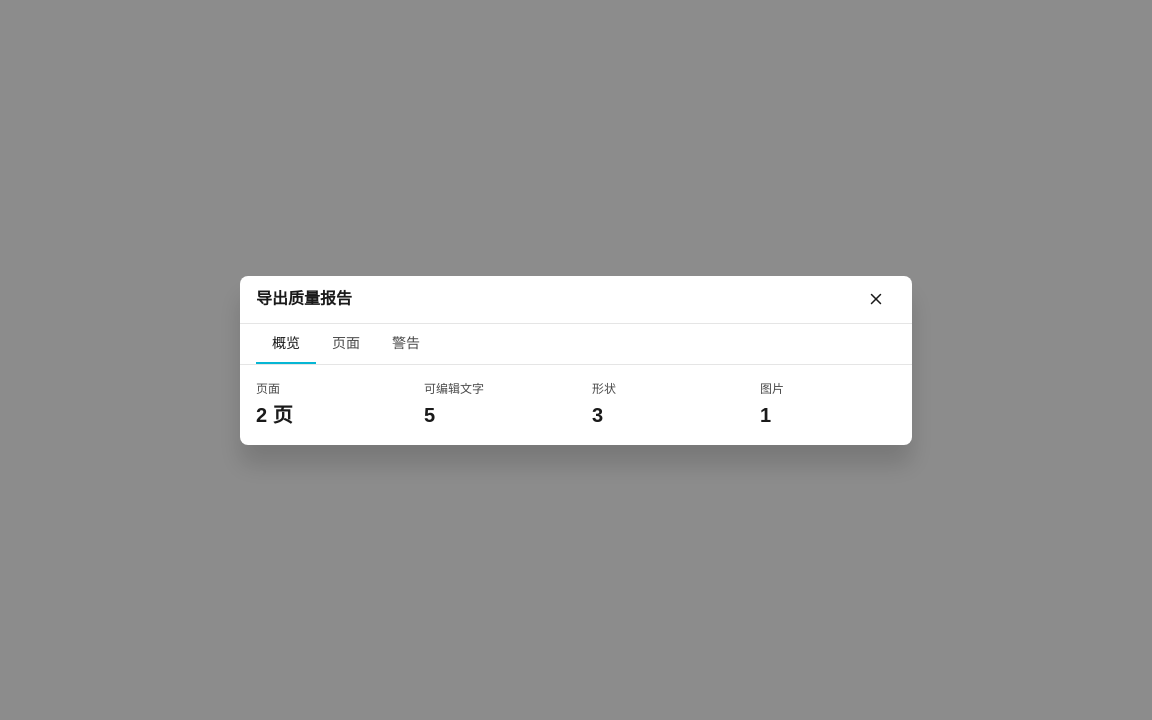
it: ExportQualityReport › shows summary, pages, and warnings without exposing raw logs by default
The width and height of the screenshot is (1152, 720).
expect the dialog "导出质量报告" shows "2 页": met, box [256, 404, 293, 426]
Click the tab "页面": [346, 344] box [316, 324, 376, 364]
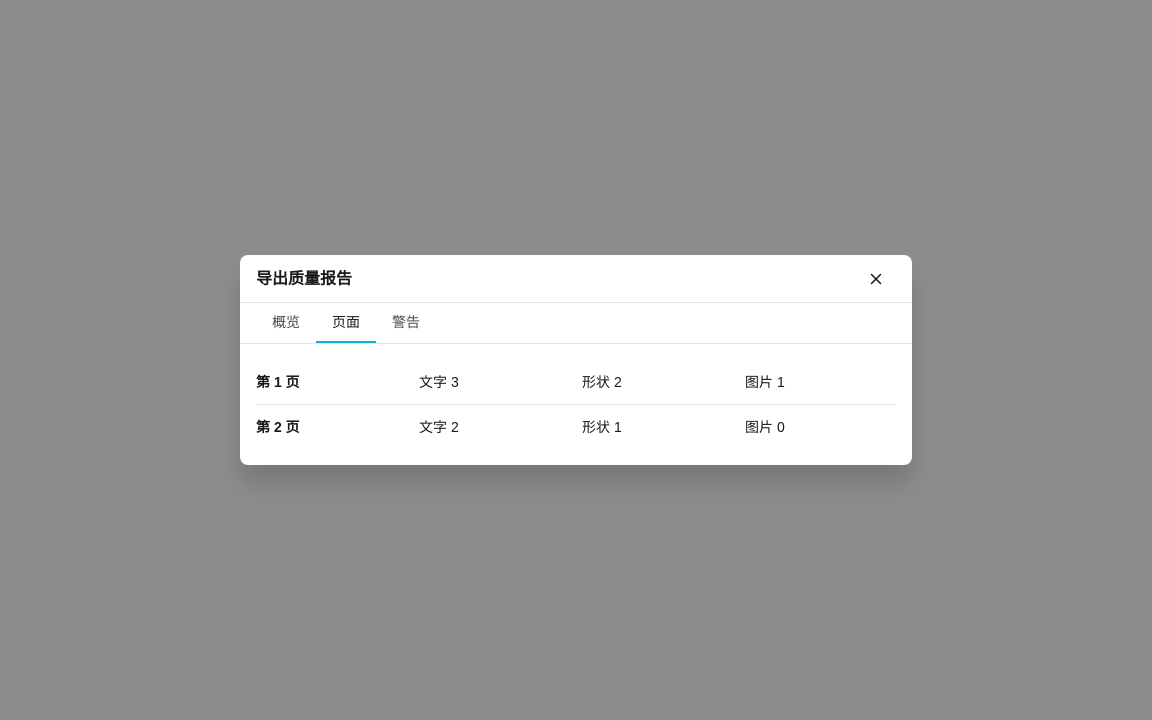
expect the text "第 1 页" is shown: met, box [256, 374, 300, 390]
Click the tab "警告": [406, 323] box [376, 303, 436, 343]
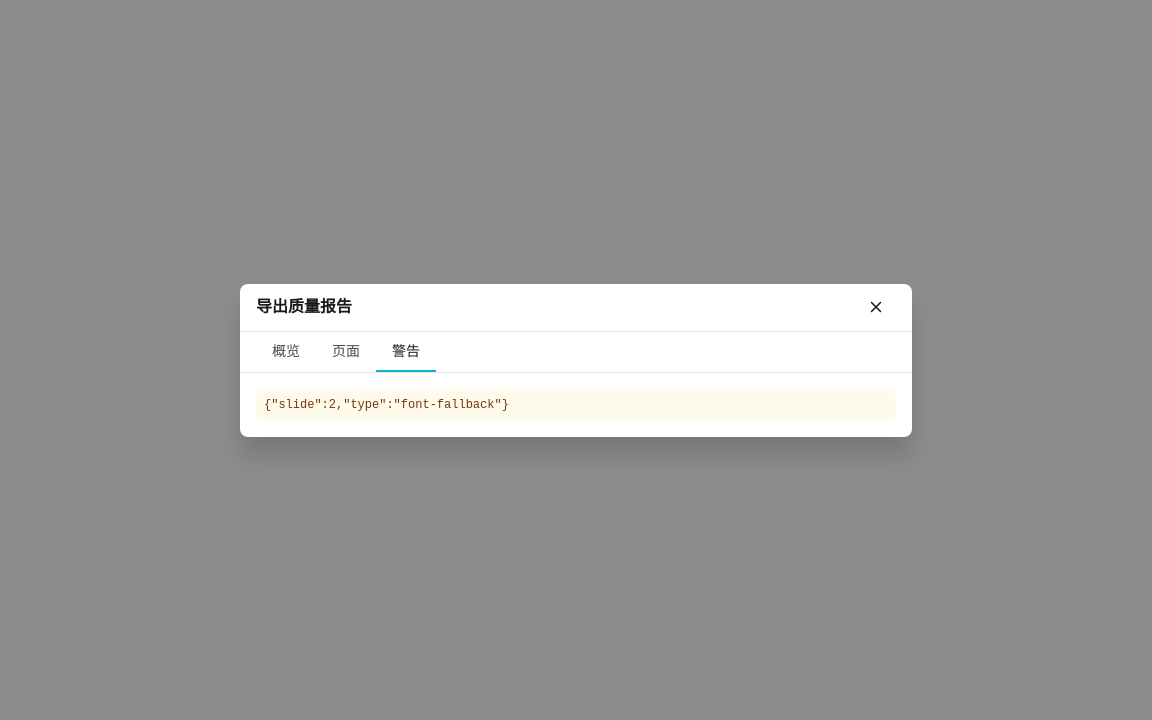
expect the text "{\"slide\":2,\"type\":\"font-fallback\"}" is shown: met, box [256, 388, 896, 420]
